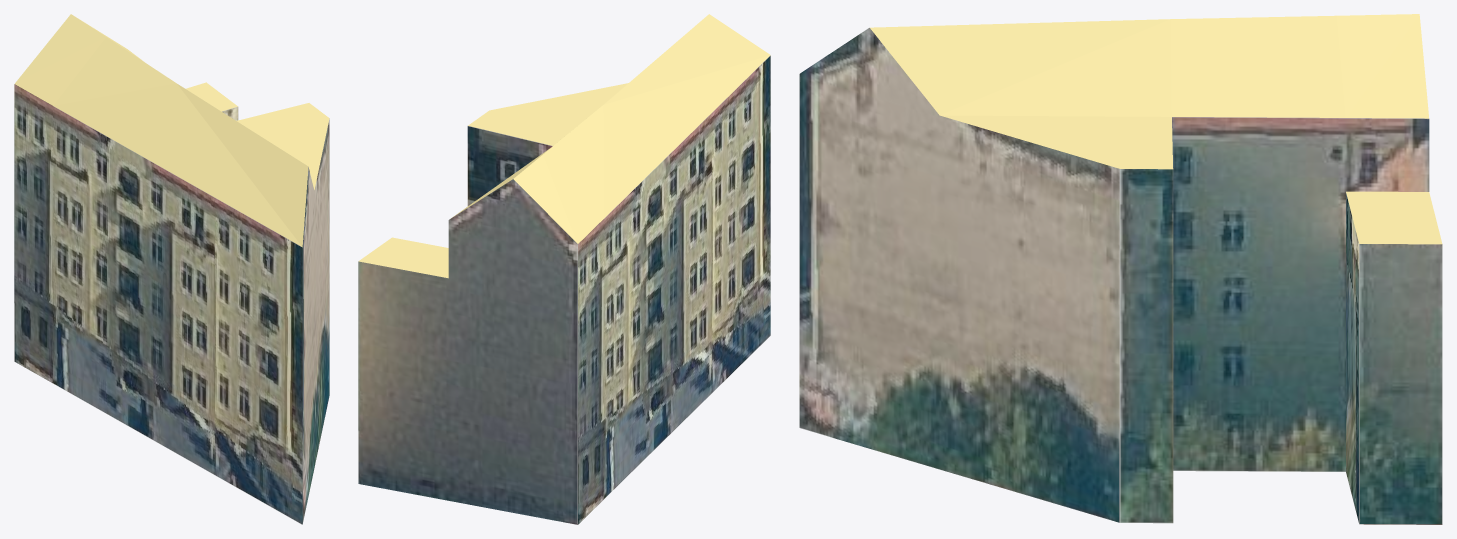
The picture shows the model from 3 angles, left to right: view 1: azimuth 30°, elevation 25°; view 2: azimuth 150°, elevation 25°; view 3: azimuth 270°, elevation 25°; orthographic projection. The views are drawn at different scales.
Size of the model in its own units: 14.67 by 22.63 by 31.31.
Materials: 3 (1 with a texture image).
